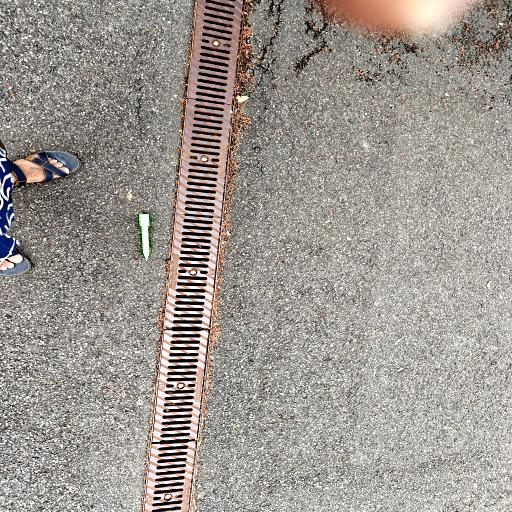Probe-Detection: (139, 214, 150, 260)
